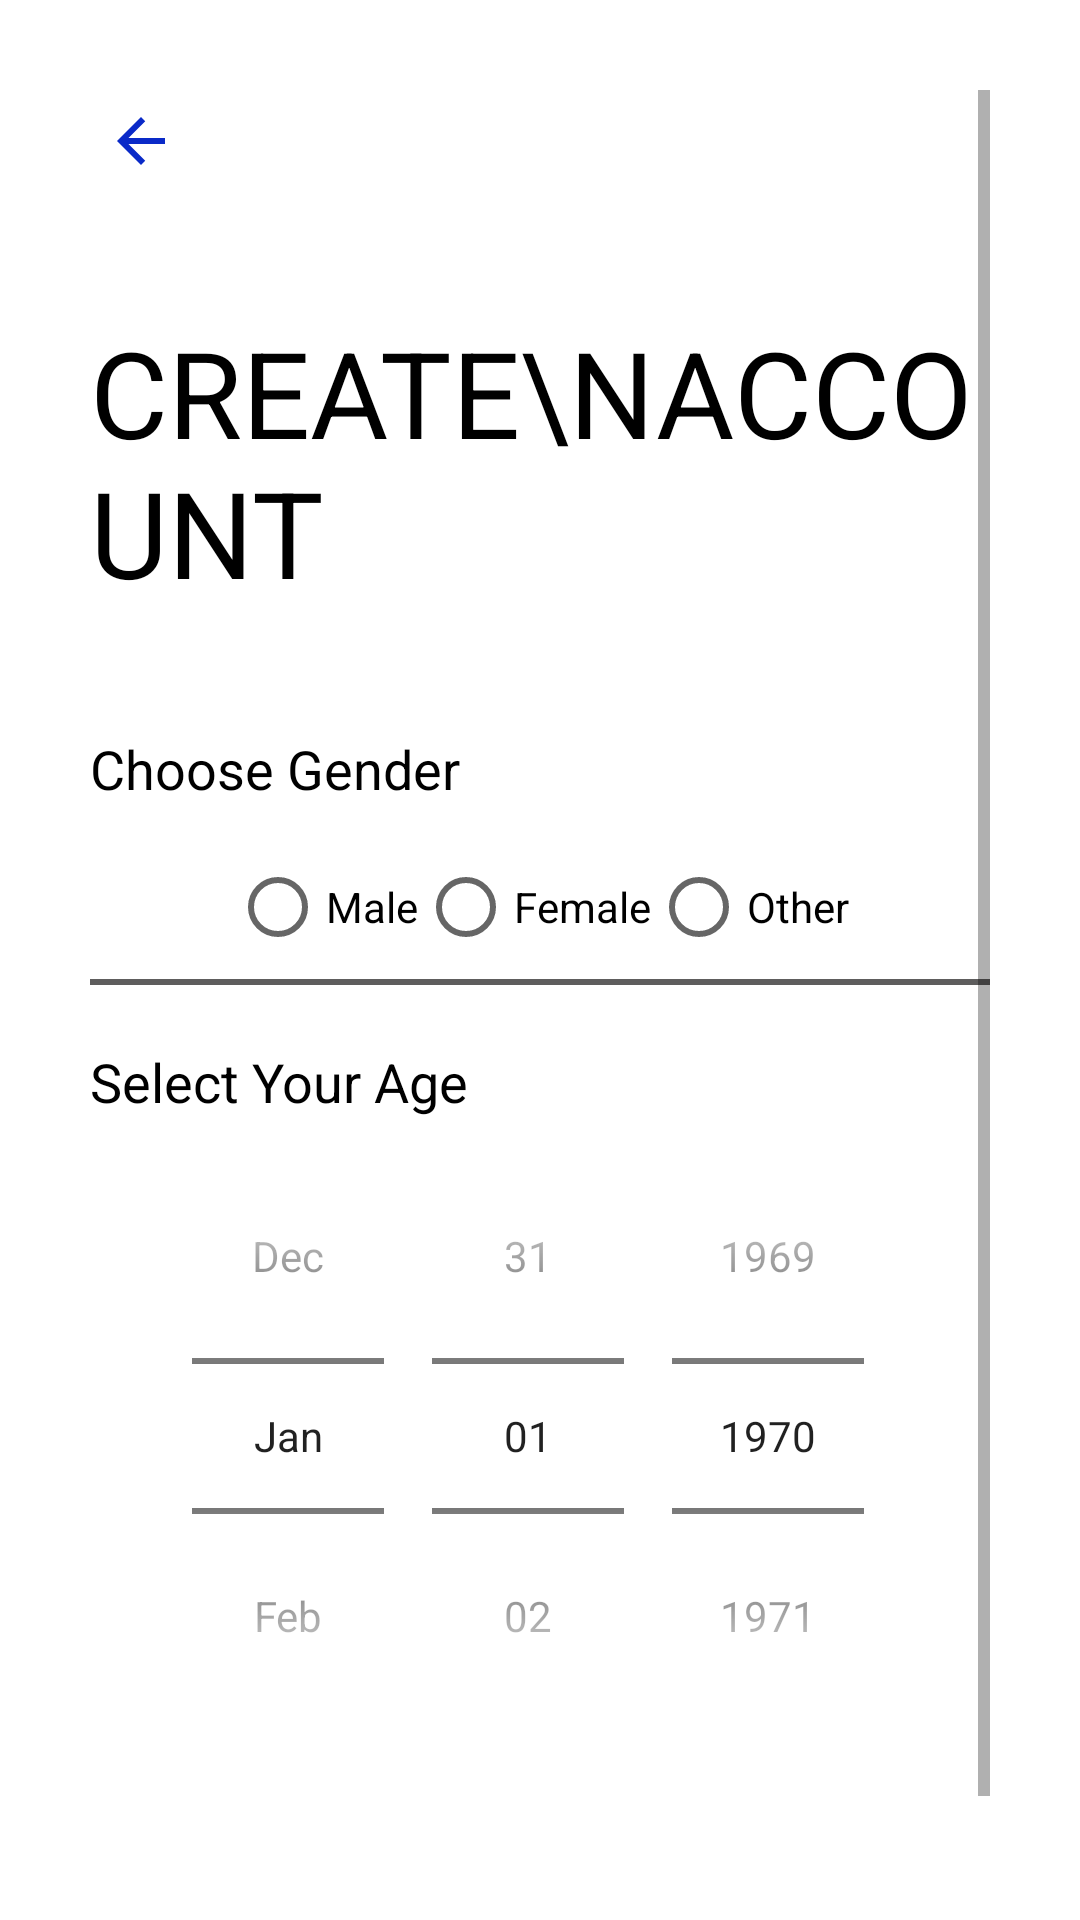

Icons on this 1080x1920 Android screen, each with its box as (x1, y1, x2, y2):
arrow back: (117, 117, 165, 165)
